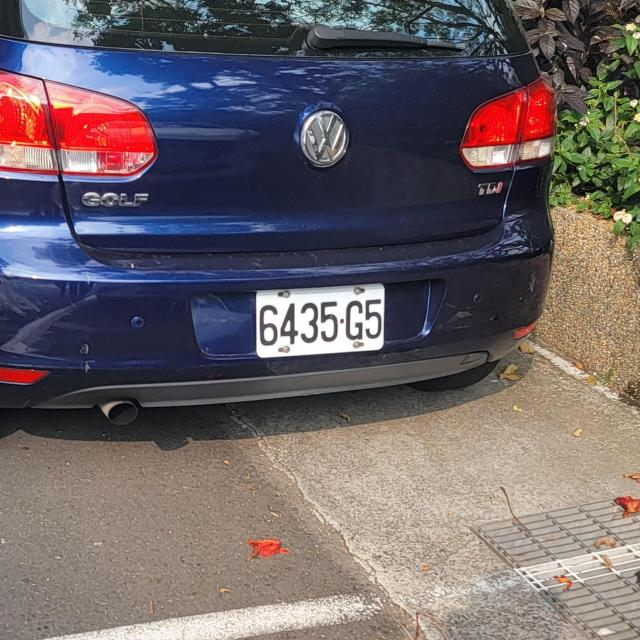W: (253, 283, 388, 359)
